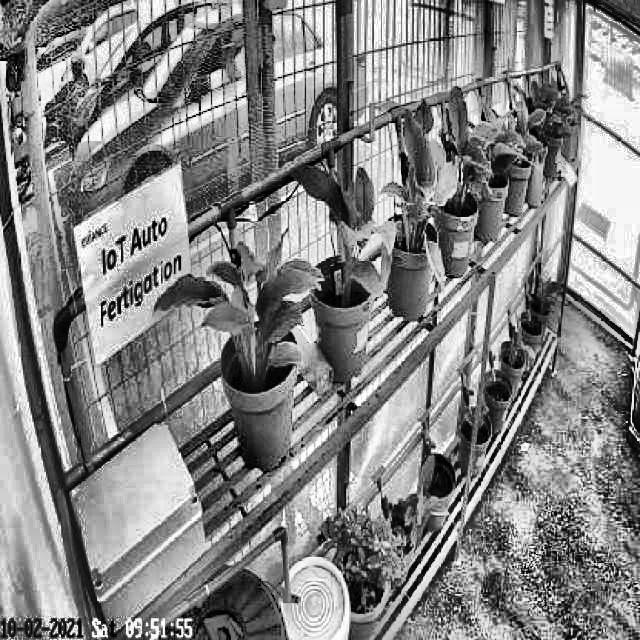plants: (153, 224, 322, 376), (292, 155, 397, 300), (374, 99, 448, 299), (430, 85, 496, 218)
